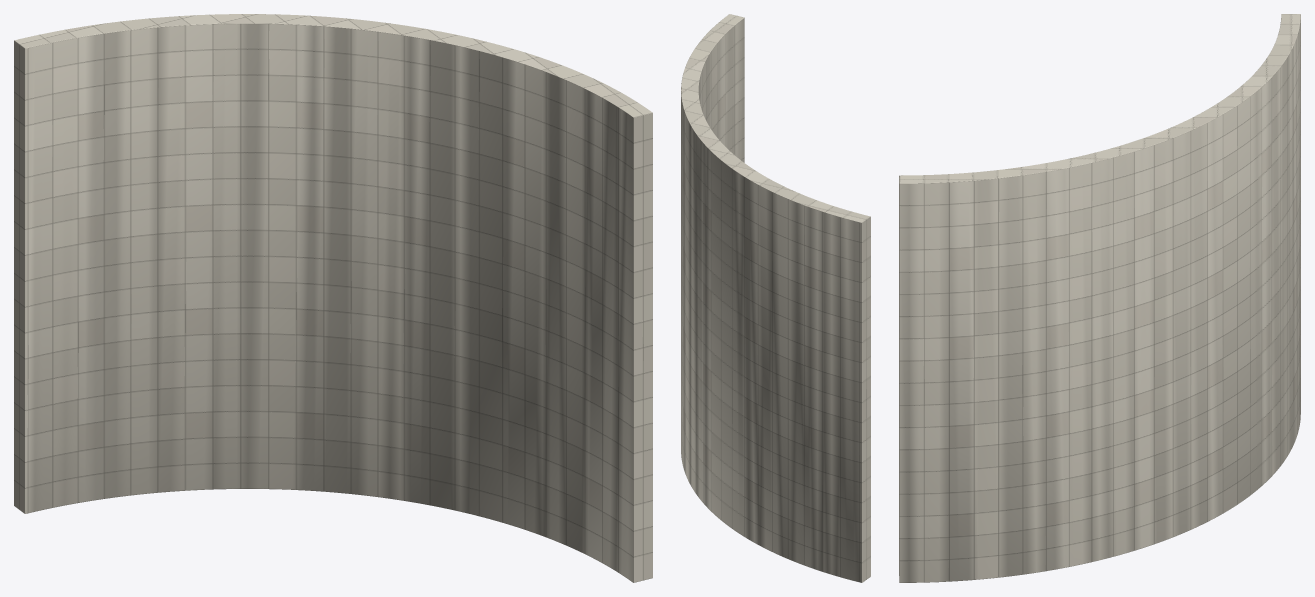
File: MOD_48_Wall_CurvedQuarter_4m.glb
3 views of the same model, side by side, from view 1: azimuth 30°, elevation 25°; view 2: azimuth 150°, elevation 25°; view 3: azimuth 270°, elevation 25° (orthographic). The views are drawn at different scales.
Parts seen in each view (by area): view 1: MOD_48_Wall_CurvedQuarter_4m_Export; view 2: MOD_48_Wall_CurvedQuarter_4m_Export; view 3: MOD_48_Wall_CurvedQuarter_4m_Export.
Boxes of the visible parts, x1,y1,x2,y2 form: MOD_48_Wall_CurvedQuarter_4m_Export: [14, 14, 652, 582]; MOD_48_Wall_CurvedQuarter_4m_Export: [681, 14, 870, 582]; MOD_48_Wall_CurvedQuarter_4m_Export: [899, 14, 1300, 582].
Bounding box in the file's own units: 4.1 × 4.5 × 4.1.
1 material, 1 textured.
